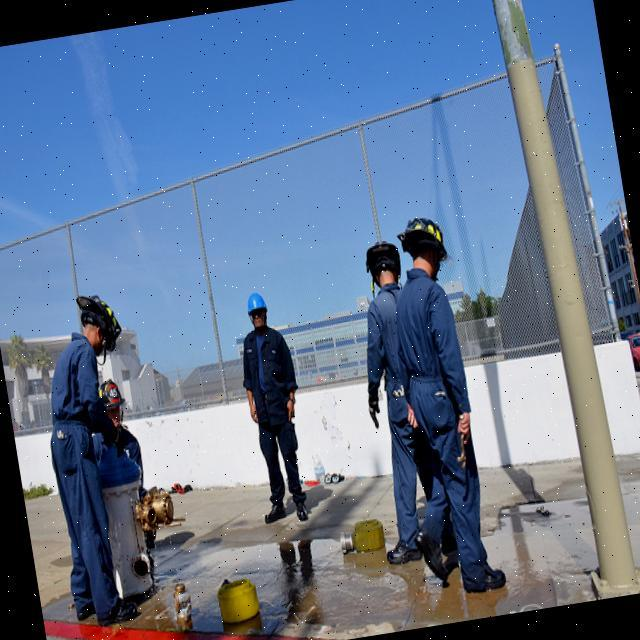fire_hydrant: (93, 434, 197, 598)
